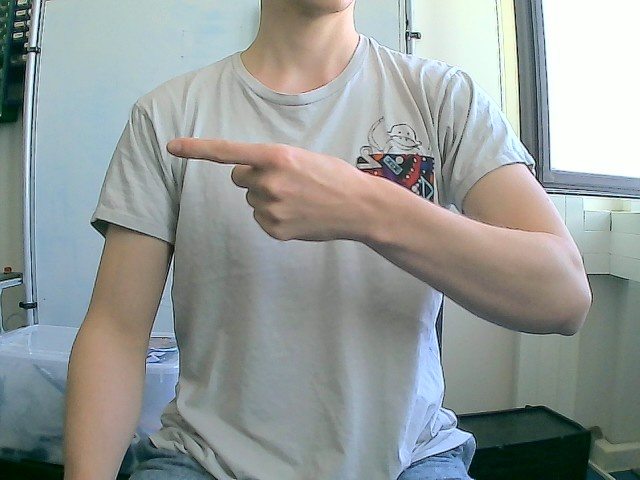right: (165, 135, 368, 244)
